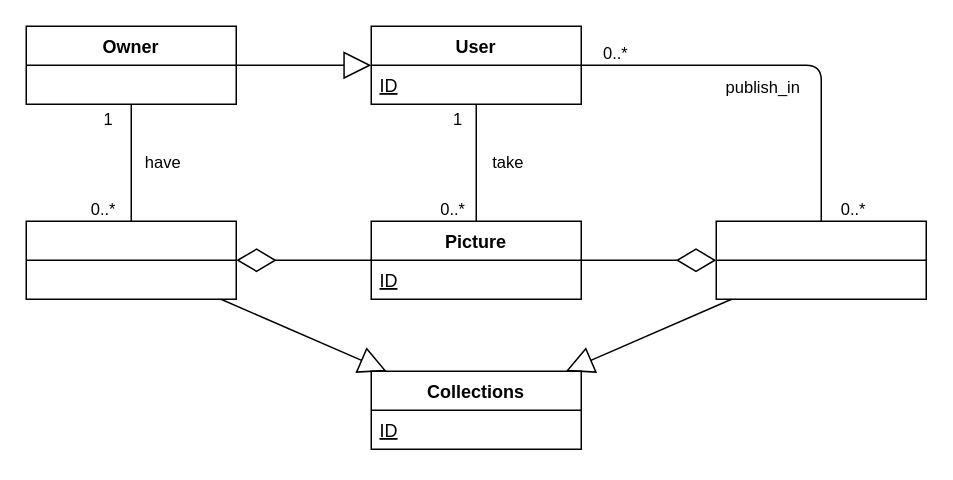
Some shapes in this 953 by 480 pixel diagram are drawn without their labels. The shapes that lost their labels are listed below. From the top down, each one's centre as x and y in pixels, then its label:
At point (130, 259): "Album".
At point (820, 259): "Gallery".
